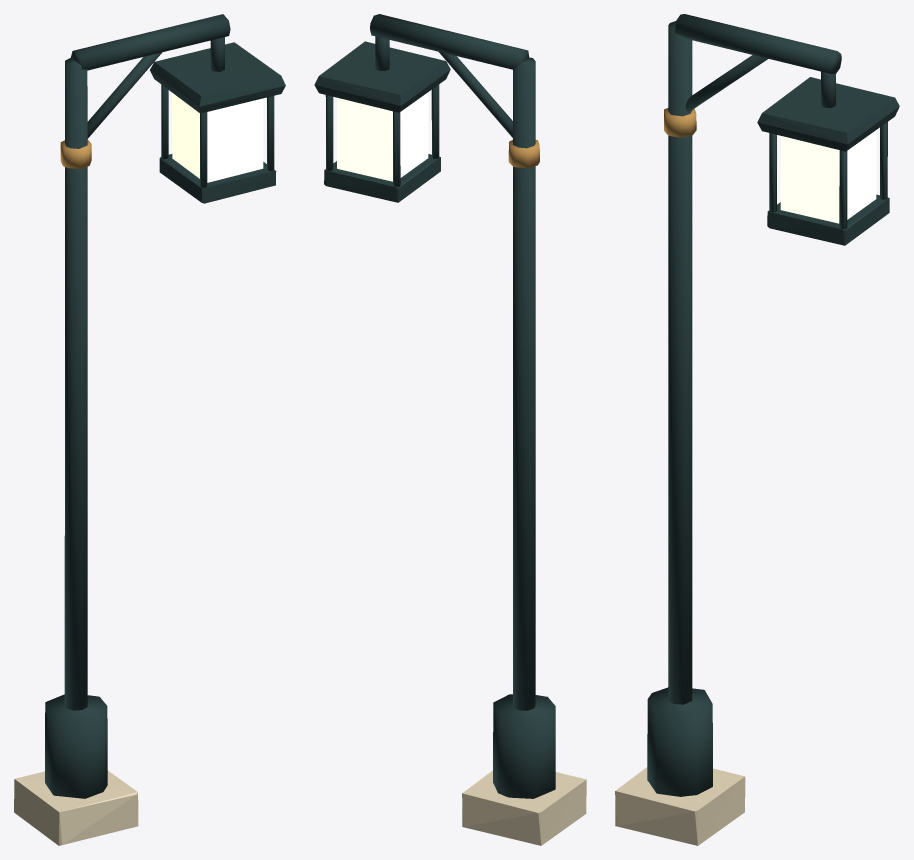
The model's file is street_lamp_low.glb.
3 renders of one model, left to right at view 1: azimuth 30°, elevation 25°; view 2: azimuth 150°, elevation 25°; view 3: azimuth 330°, elevation 25°, orthographic. The views are drawn at different scales.
Visible parts, largest first — view 1: Lamp pole, Lamp footing, Warm lantern lens, Flared base, Lantern lid, Lantern arm, Lantern base, Diagonal brace, Brass collar, Lantern frame, Lantern frame.002, Lantern frame.001; view 2: Lamp pole, Lamp footing, Warm lantern lens, Flared base, Lantern lid, Lantern arm, Lantern base, Diagonal brace, Brass collar, Lantern frame, Lantern frame.003, Lantern frame.001; view 3: Lamp pole, Warm lantern lens, Lamp footing, Flared base, Lantern lid, Lantern arm, Lantern base, Diagonal brace, Brass collar, Lantern frame.002, Lantern frame, Lantern frame.003.
Part boxes in pixels (box(x1,y1,x2,y2)): Lamp pole: box(64, 58, 87, 710); Lamp footing: box(14, 770, 138, 845); Warm lantern lens: box(172, 93, 263, 182); Flared base: box(45, 694, 107, 798); Lantern lid: box(150, 42, 285, 113); Lantern arm: box(70, 14, 230, 70); Lantern base: box(159, 154, 276, 203); Diagonal brace: box(87, 52, 161, 138); Brass collar: box(60, 140, 91, 168); Lantern frame: box(200, 112, 207, 187); Lantern frame.002: box(267, 96, 274, 170); Lantern frame.001: box(161, 84, 168, 159); Lamp pole: box(513, 57, 535, 710); Lamp footing: box(462, 770, 586, 845); Warm lantern lens: box(337, 92, 428, 181); Flared base: box(493, 694, 555, 798); Lantern lid: box(314, 41, 450, 112); Lantern arm: box(370, 14, 529, 69); Lantern base: box(324, 154, 440, 202); Diagonal brace: box(439, 52, 512, 137); Brass collar: box(508, 140, 539, 168); Lantern frame: box(431, 84, 439, 158); Lantern frame.003: box(325, 95, 333, 170); Lantern frame.001: box(393, 111, 400, 187); Lamp pole: box(668, 21, 692, 704); Warm lantern lens: box(780, 130, 876, 223); Lamp footing: box(615, 767, 745, 845); Flared base: box(647, 687, 712, 796); Lantern lid: box(757, 77, 899, 151); Lantern arm: box(674, 14, 841, 73); Lantern base: box(767, 194, 889, 245); Diagonal brace: box(685, 55, 768, 111); Brass collar: box(664, 108, 696, 137); Lantern frame.002: box(839, 150, 847, 229); Lantern frame: box(769, 133, 776, 212); Lantern frame.003: box(880, 122, 887, 199).
Bounding box in the file's own units: 1.2 × 3.94 × 0.4635.
